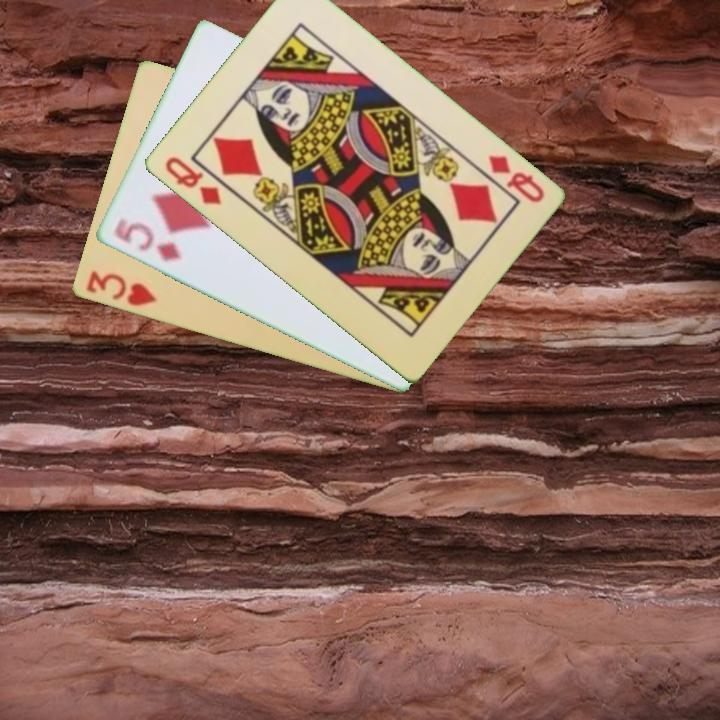3h: (82, 268, 160, 310)
5d: (110, 215, 184, 265)
Qd: (161, 153, 225, 209), (483, 151, 547, 206)
